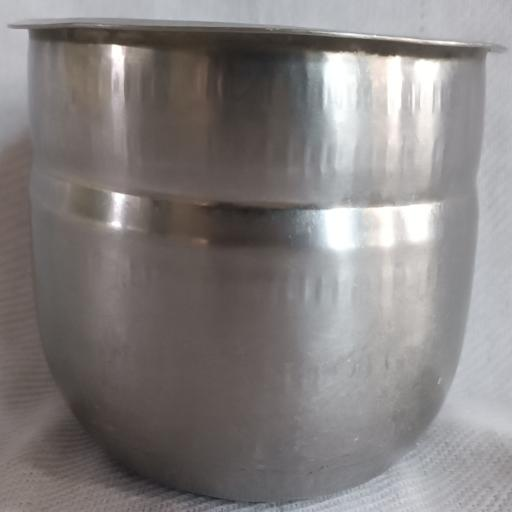vessel: (13, 22, 492, 501)
